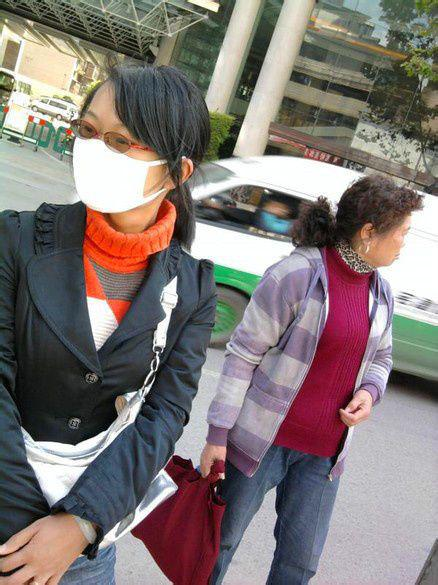NONE: (367, 221, 412, 266)
OK: (69, 114, 165, 209)
